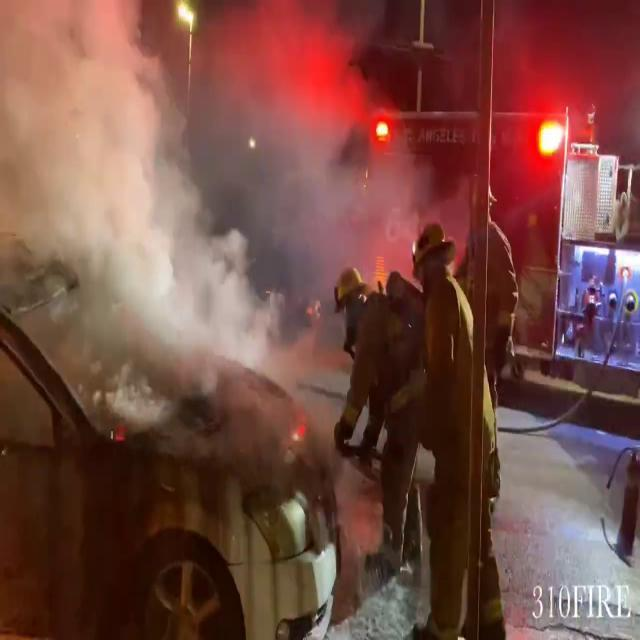Smoke: (0, 0, 463, 364)
